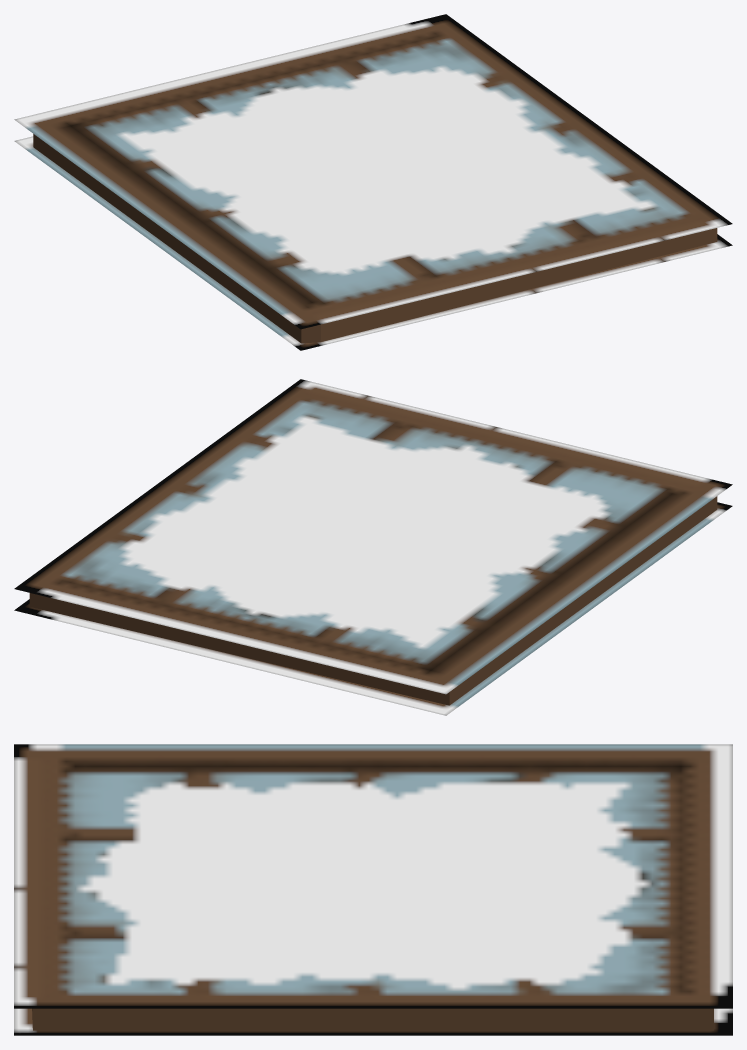
The model's file is pz_native_fixtures_windows_wood_81_frame.obj.
3 renders of one model, top to bottom at view 1: azimuth 30°, elevation 25°; view 2: azimuth 150°, elevation 25°; view 3: azimuth 270°, elevation 25°, orthographic. The views are drawn at different scales.
Parts seen in each view (by area): view 1: pz_native_fixtures_windows_wood_81_frame; view 2: pz_native_fixtures_windows_wood_81_frame; view 3: pz_native_fixtures_windows_wood_81_frame.
Part boxes in pixels (bbox=[...]): pz_native_fixtures_windows_wood_81_frame: bbox=[14, 14, 732, 350]; pz_native_fixtures_windows_wood_81_frame: bbox=[14, 379, 732, 715]; pz_native_fixtures_windows_wood_81_frame: bbox=[14, 744, 732, 1035].
Size of the model in its own units: 0.8438 by 0.04 by 0.9696.
Materials: 1 (1 with a texture image).
